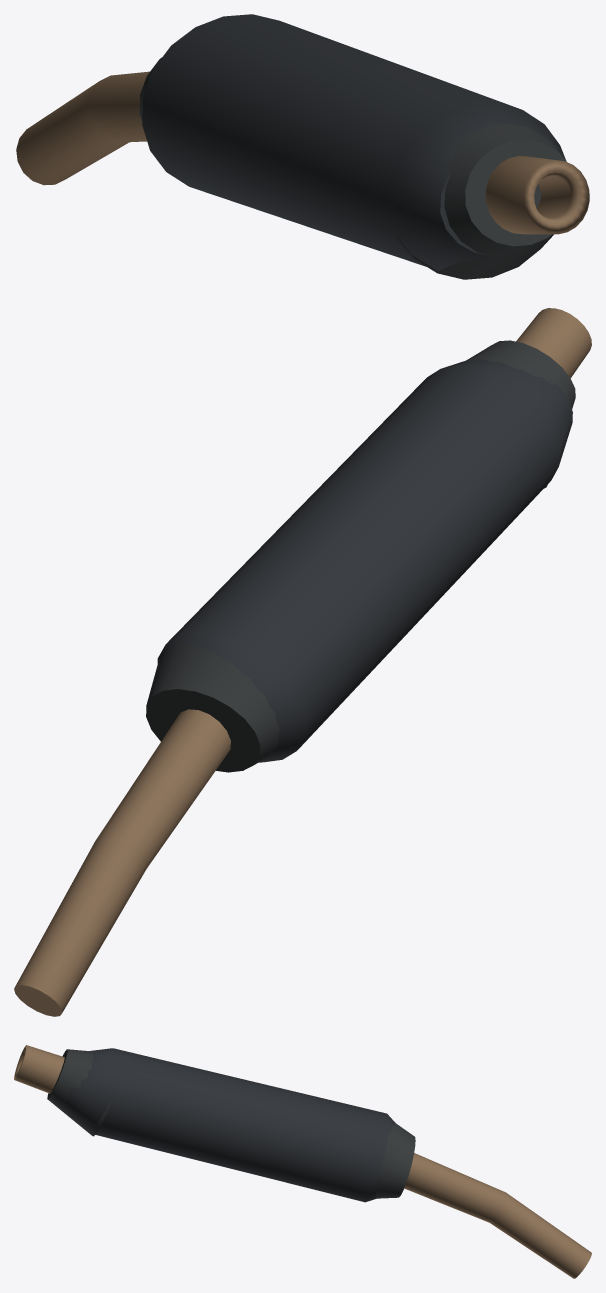
Rendered from SB50-silencer-black.glb.
The picture shows the model from 3 angles, top to bottom: view 1: azimuth 30°, elevation 25°; view 2: azimuth 150°, elevation 25°; view 3: azimuth 270°, elevation 25°; orthographic projection. The views are drawn at different scales.
Parts seen in each view (by area): view 1: SB50-silencer-black; view 2: SB50-silencer-black; view 3: SB50-silencer-black.
Boxes of the visible parts, left/top/right/bottom form: SB50-silencer-black: left=16, top=14, right=589, bottom=279; SB50-silencer-black: left=14, top=308, right=591, bottom=1016; SB50-silencer-black: left=14, top=1045, right=591, bottom=1278.
Size of the model in its own units: 0.0879 by 0.1813 by 0.4359.
